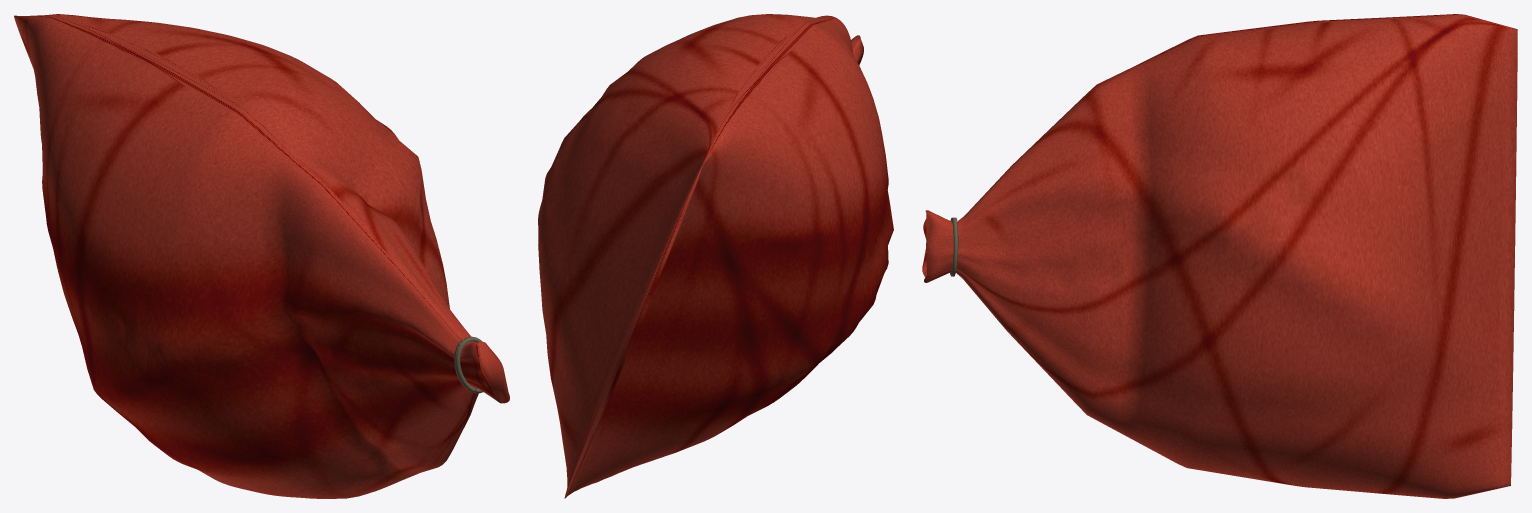
The model's file is peach_00_015.glb.
The picture shows the model from 3 angles, left to right: view 1: azimuth 30°, elevation 25°; view 2: azimuth 150°, elevation 25°; view 3: azimuth 270°, elevation 25°; orthographic projection. The views are drawn at different scales.
Visible parts, largest first — view 1: export_Tree00/shoot2_10_1/bag; view 2: export_Tree00/shoot2_10_1/bag; view 3: export_Tree00/shoot2_10_1/bag.
Part boxes in pixels (x1=…): export_Tree00/shoot2_10_1/bag: x1=14, y1=14, x2=509, y2=498; export_Tree00/shoot2_10_1/bag: x1=538, y1=14, x2=893, y2=498; export_Tree00/shoot2_10_1/bag: x1=922, y1=14, x2=1517, y2=498.
Size of the model in its own units: 0.0965 by 0.1236 by 0.1586.
4 materials, 1 textured.
